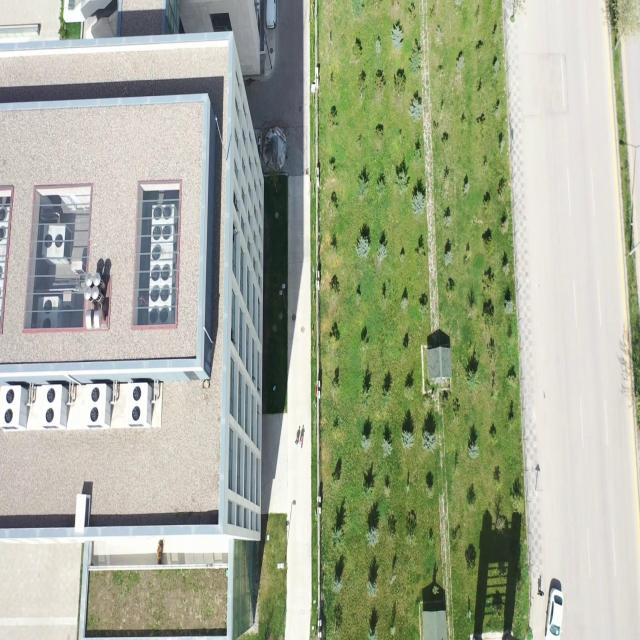p3rson: (536, 588, 544, 597), (299, 436, 303, 449), (294, 438, 298, 446)
